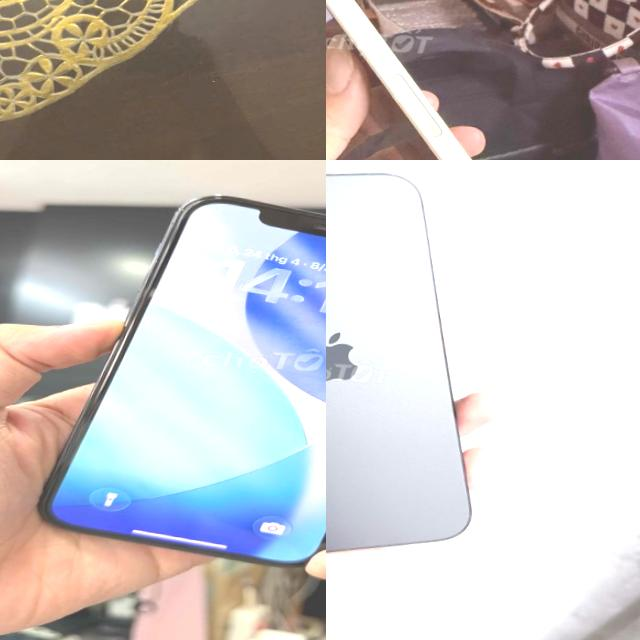physical_damage: (390, 88, 404, 104)
